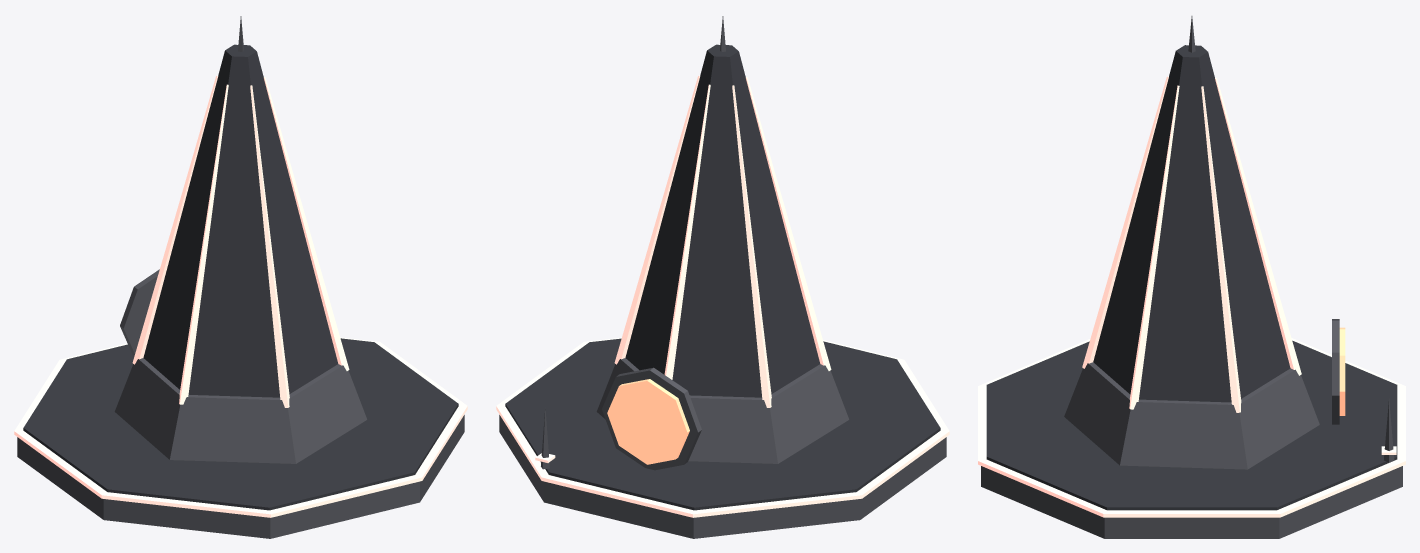
The model's file is zone_high_1_t1.glb.
3 renders of one model, left to right at view 1: azimuth 30°, elevation 25°; view 2: azimuth 150°, elevation 25°; view 3: azimuth 270°, elevation 25°, orthographic.
Visible parts, largest first — view 1: zone_high_1_t1; view 2: zone_high_1_t1; view 3: zone_high_1_t1.
Part boxes in pixels (bbox=[...]): zone_high_1_t1: bbox=[14, 16, 467, 538]; zone_high_1_t1: bbox=[496, 16, 949, 538]; zone_high_1_t1: bbox=[978, 16, 1405, 538].
Size of the model in its own units: 27.35 by 30.74 by 27.35.
